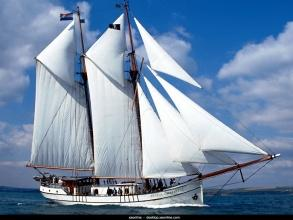fanchuan: (24, 3, 282, 204)
